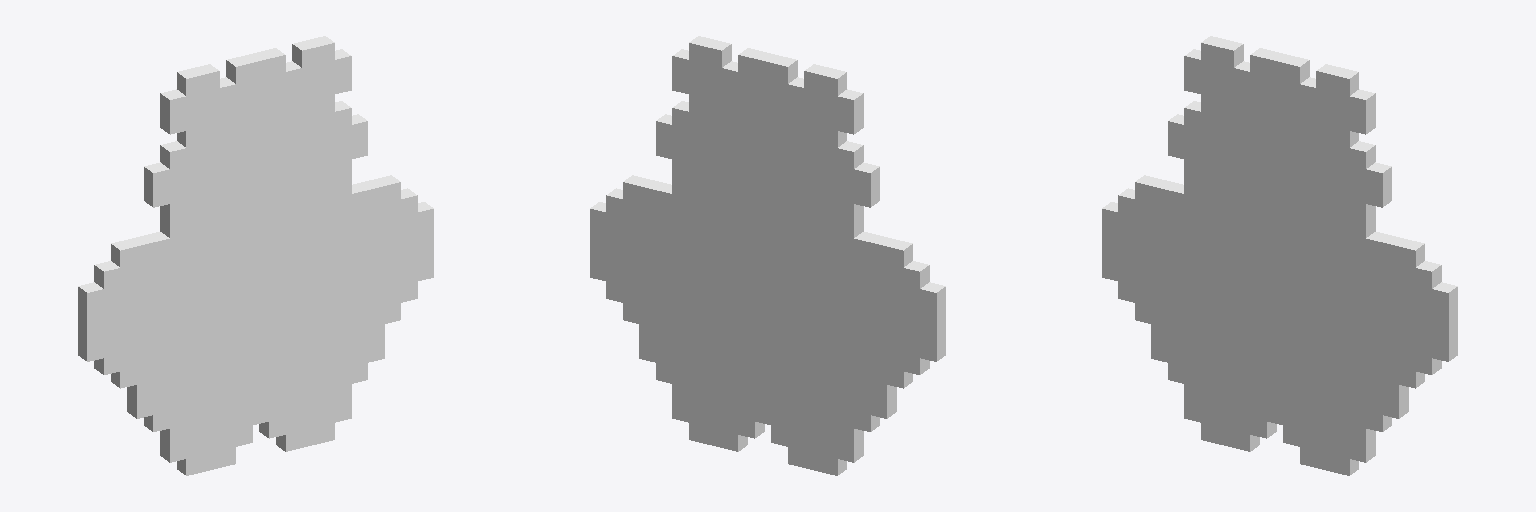
The model's file is walk2bear.obj.
3 renders of one model, left to right at view 1: azimuth 30°, elevation 25°; view 2: azimuth 150°, elevation 25°; view 3: azimuth 330°, elevation 25°, orthographic.
Parts seen in each view (by area): view 1: object 1; view 2: object 1; view 3: object 1.
Part boxes in pixels (left/top/right/bottom): object 1: left=78, top=36, right=433, bottom=475; object 1: left=590, top=36, right=945, bottom=475; object 1: left=1102, top=36, right=1457, bottom=475.
Bounding box in the file's own units: 2.1 × 2.3 × 0.1.